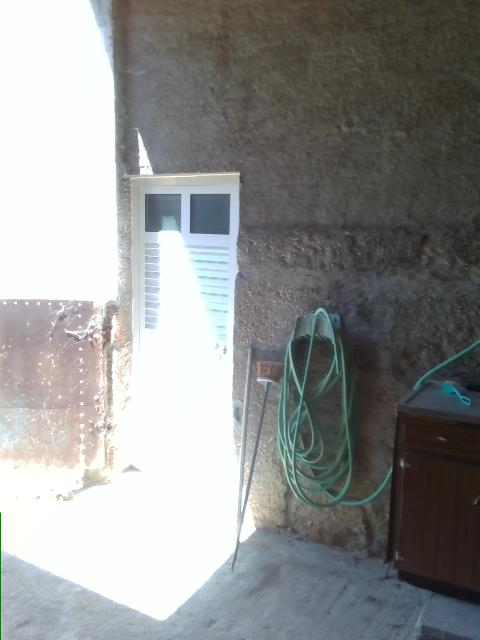door: (122, 172, 237, 490)
